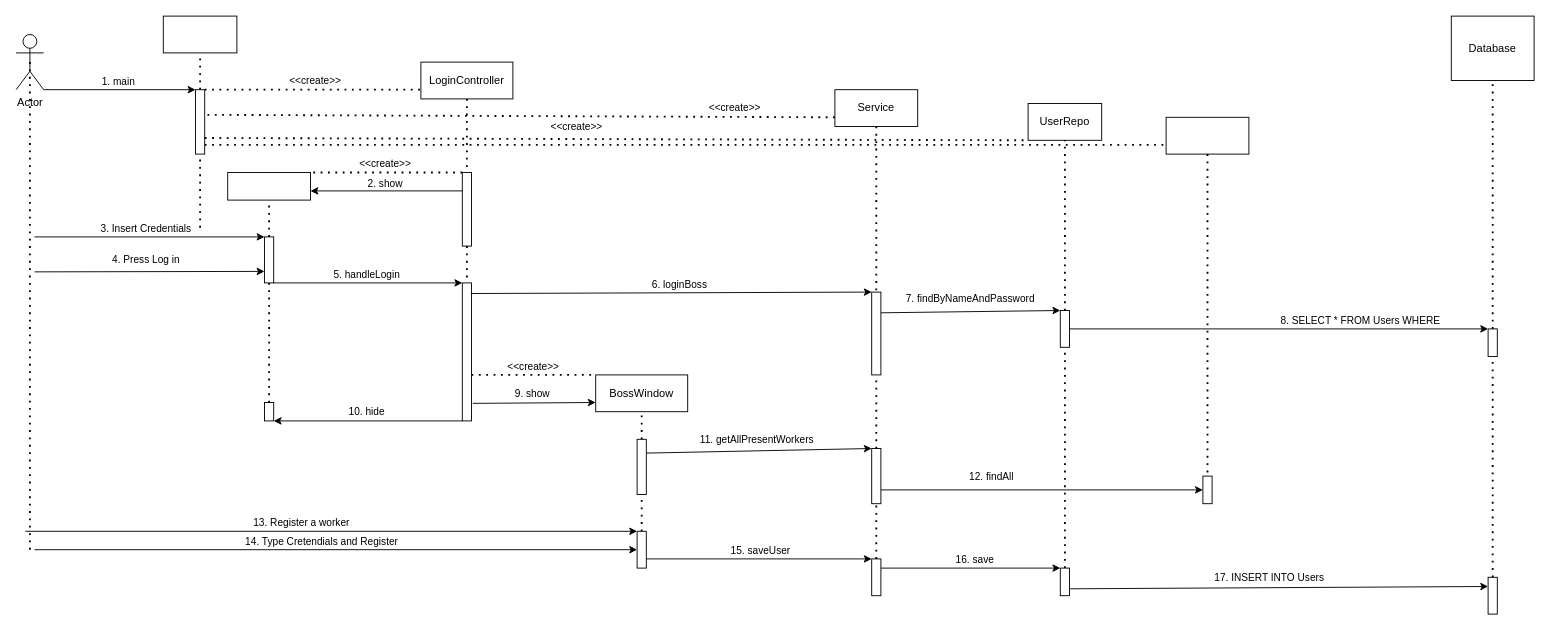
Some shapes in this 1550 by 630 pixel diagram are drawn without their labels. Here are the shapes that lost their labels. From the top down, the centre of each, then its label:
point (199, 34): <<Boundary>> Main
point (1207, 135): PresentWorker Repo
point (268, 186): LoginWindow
